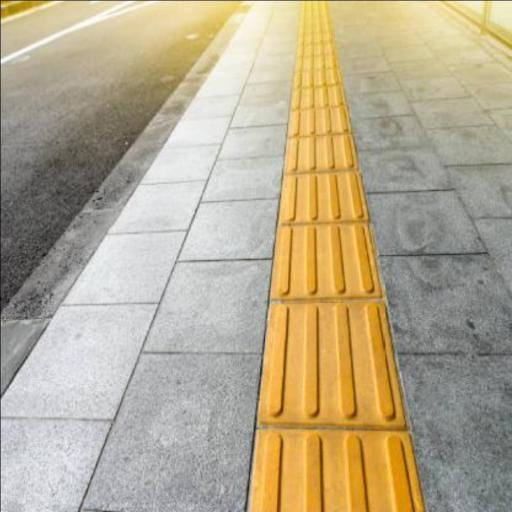line: (256, 299, 415, 424), (249, 425, 431, 511), (270, 221, 380, 299), (278, 169, 368, 223), (282, 135, 358, 175), (287, 102, 351, 141), (289, 84, 346, 110), (291, 68, 343, 87)
